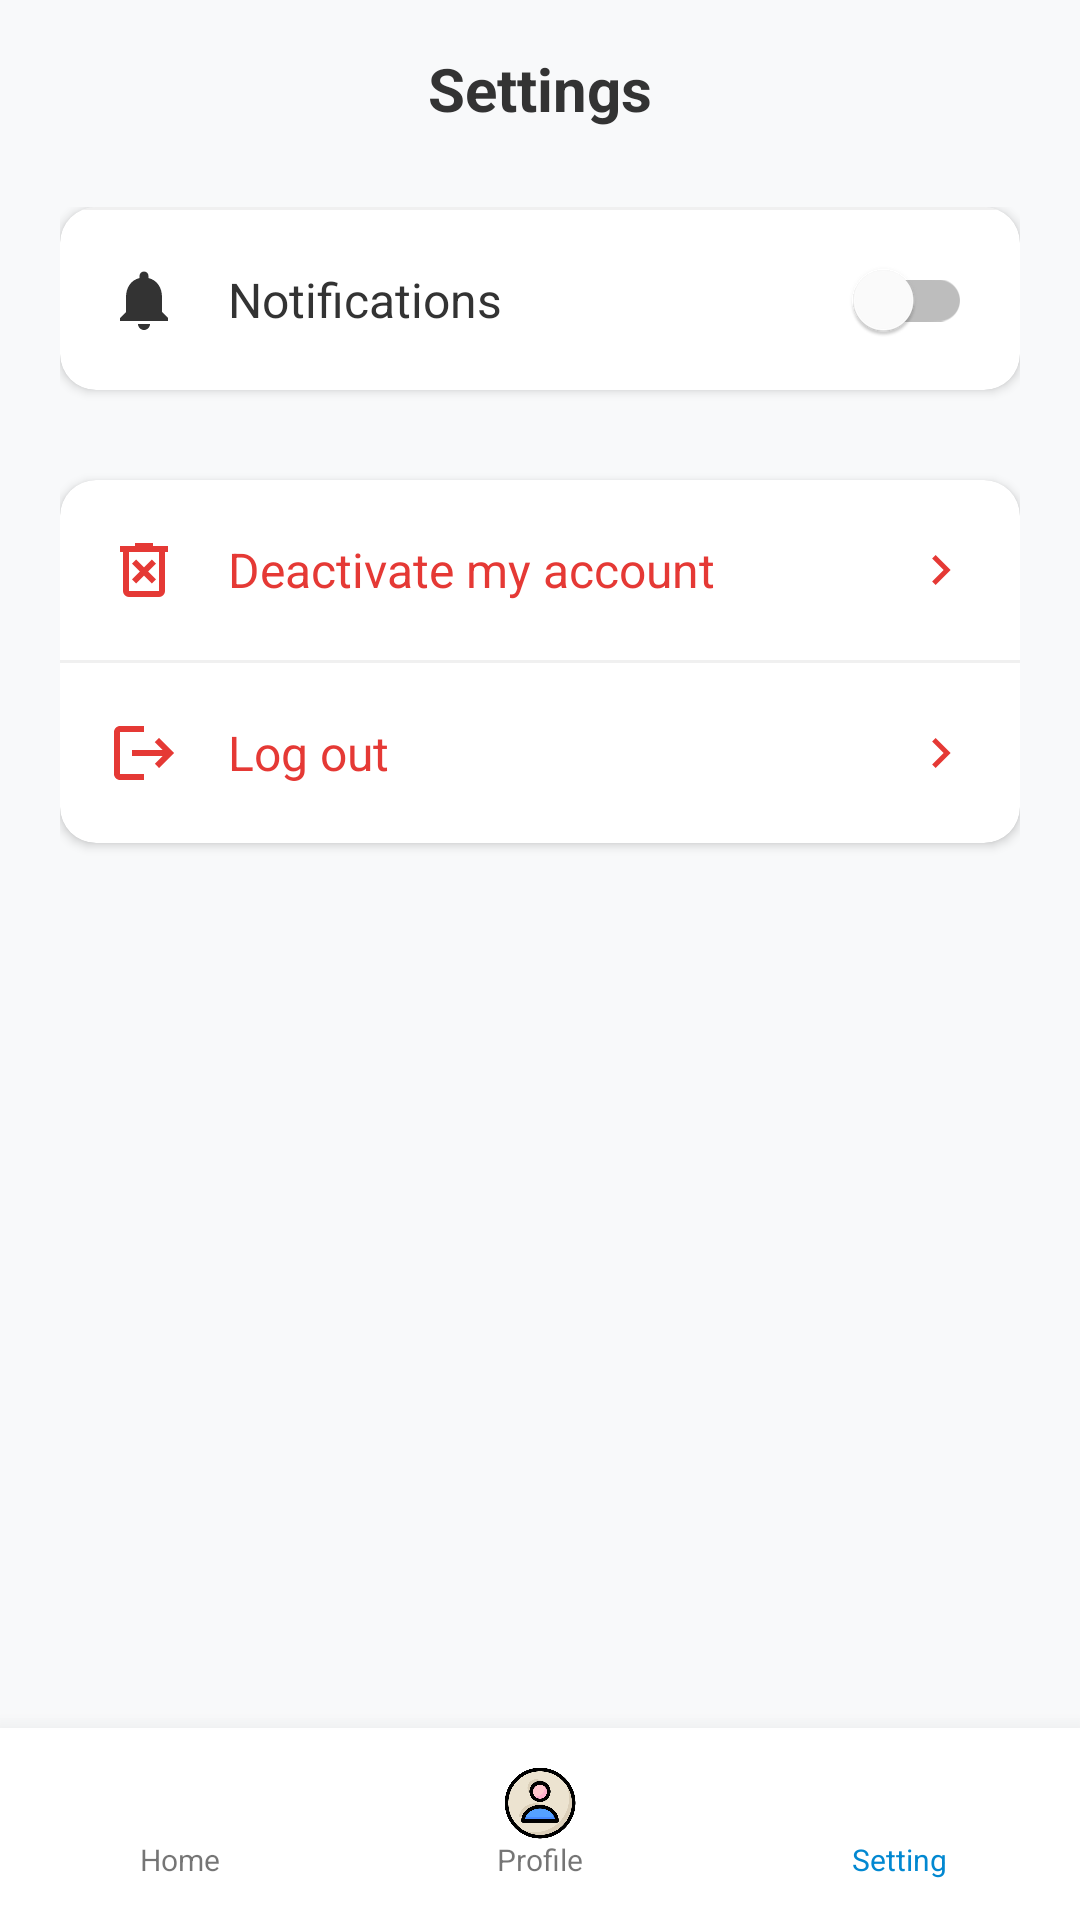

Icons on this 1080x1920 Android screen, each with its box as {"x1": x1, "y1": y1, "x2": x2, "y2": y2}:
chevron right: {"x1": 932, "y1": 555, "x2": 951, "y2": 585}, {"x1": 932, "y1": 738, "x2": 951, "y2": 768}
delete: {"x1": 120, "y1": 543, "x2": 168, "y2": 597}
